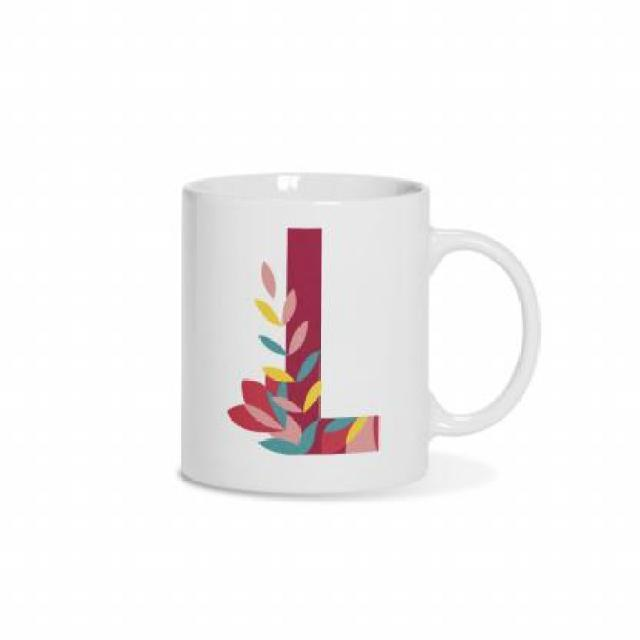taza: (177, 170, 543, 496)
